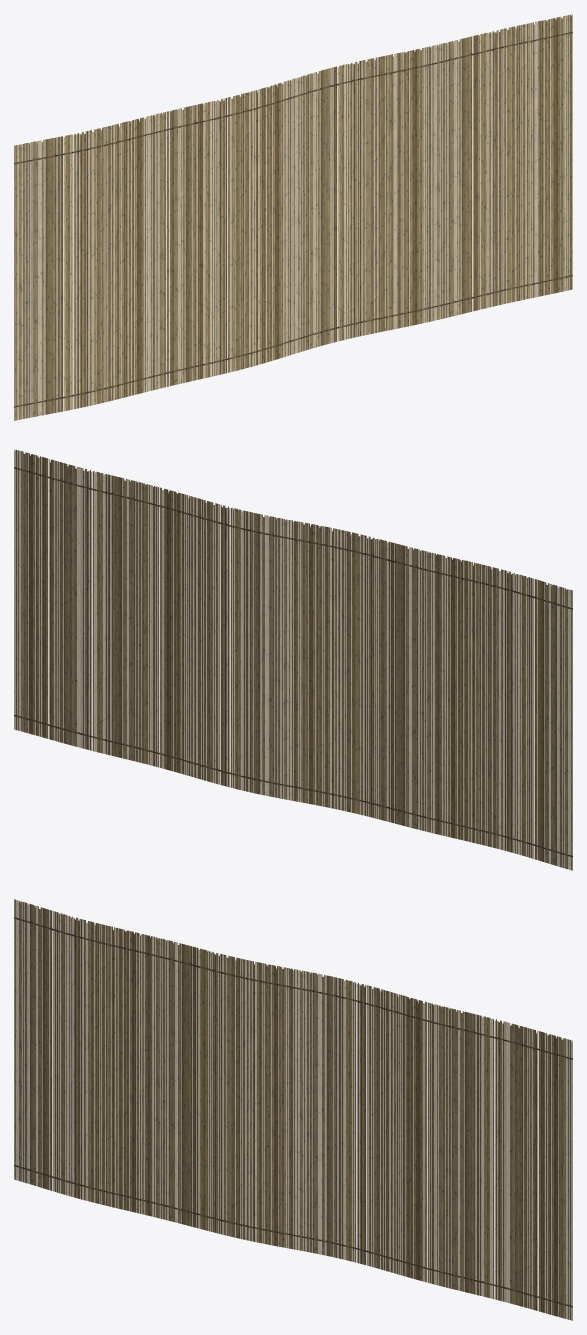
File: reed-fence.glb
3 views of the same model, one above another, from view 1: azimuth 30°, elevation 25°; view 2: azimuth 150°, elevation 25°; view 3: azimuth 330°, elevation 25° (orthographic).
Parts seen in each view (by area): view 1: reed-fence; view 2: reed-fence; view 3: reed-fence.
Part boxes in pixels (bbox=[...]): reed-fence: bbox=[14, 14, 572, 420]; reed-fence: bbox=[14, 449, 572, 870]; reed-fence: bbox=[14, 899, 572, 1320].
Bounding box in the file's own units: 4 × 1.9 × 0.0673.
Materials: 1 (1 with a texture image).
